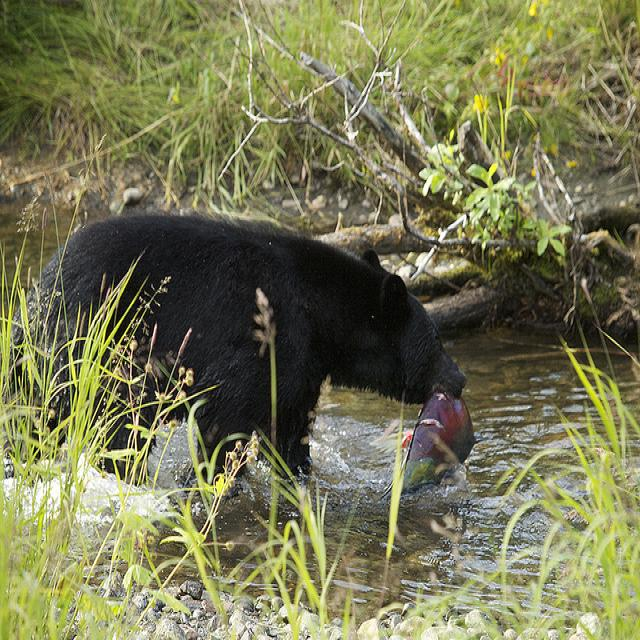Bear: (10, 204, 478, 494)
